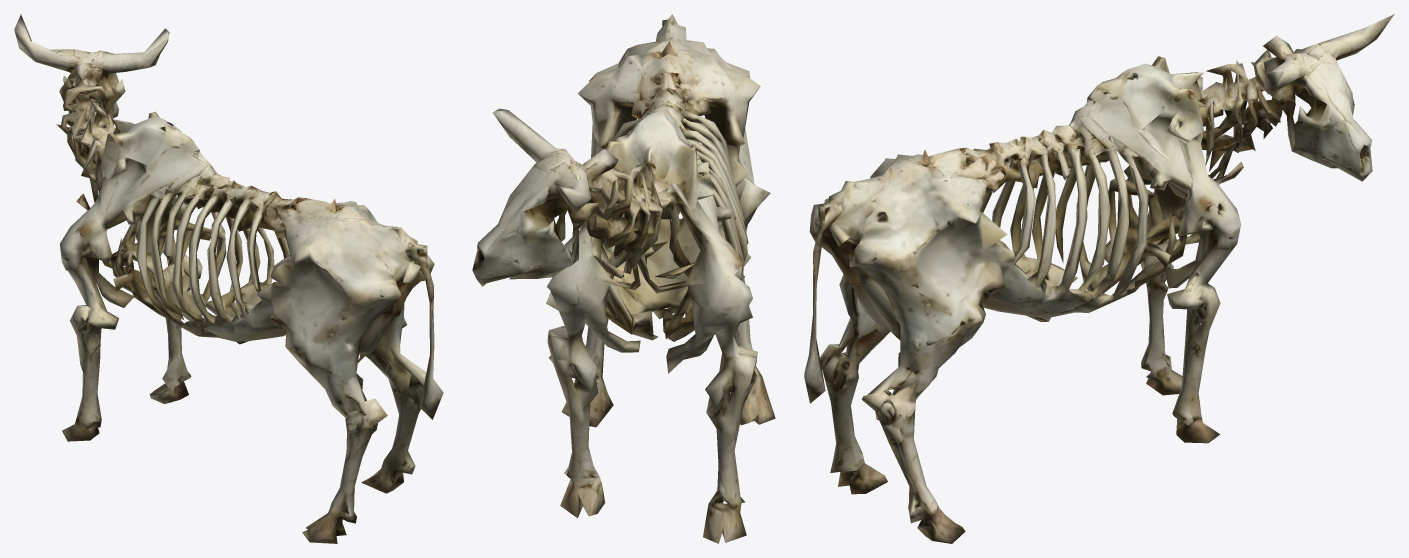
Rendered from ul_cow_skel.glb.
3 renders of one model, left to right at view 1: azimuth 30°, elevation 25°; view 2: azimuth 150°, elevation 25°; view 3: azimuth 270°, elevation 25°, orthographic. The views are drawn at different scales.
Visible parts, largest first — view 1: tripo_node_1a36d2d4-4562-4868-9dc5-9f7169e5f6d4; view 2: tripo_node_1a36d2d4-4562-4868-9dc5-9f7169e5f6d4; view 3: tripo_node_1a36d2d4-4562-4868-9dc5-9f7169e5f6d4.
Boxes of the visible parts, <box> form: tripo_node_1a36d2d4-4562-4868-9dc5-9f7169e5f6d4: <box>14,14,443,543</box>; tripo_node_1a36d2d4-4562-4868-9dc5-9f7169e5f6d4: <box>472,14,775,543</box>; tripo_node_1a36d2d4-4562-4868-9dc5-9f7169e5f6d4: <box>804,14,1394,543</box>.
Size of the model in its own units: 0.5555 by 0.8049 by 1.
1 material, 1 textured.
